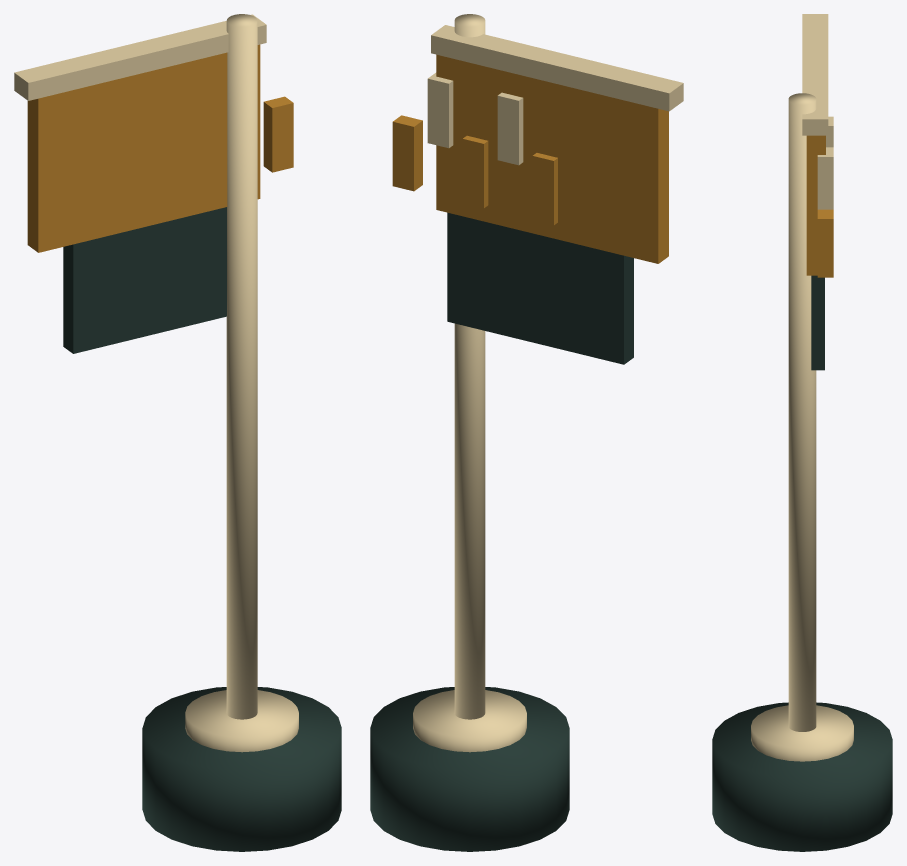
The model's file is fanflag.amber-pier-old.glb.
3 views of the same model, side by side, from view 1: azimuth 30°, elevation 25°; view 2: azimuth 150°, elevation 25°; view 3: azimuth 270°, elevation 25° (orthographic). The views are drawn at different scales.
Visible parts, largest first — view 1: weighted flag foot; view 2: weighted flag foot; view 3: weighted flag foot.
Boxes of the visible parts, bbox=[...] form: weighted flag foot: bbox=[14, 14, 341, 851]; weighted flag foot: bbox=[370, 14, 683, 851]; weighted flag foot: bbox=[712, 14, 892, 851].
Size of the model in its own units: 0.73 by 1.84 by 0.42.
